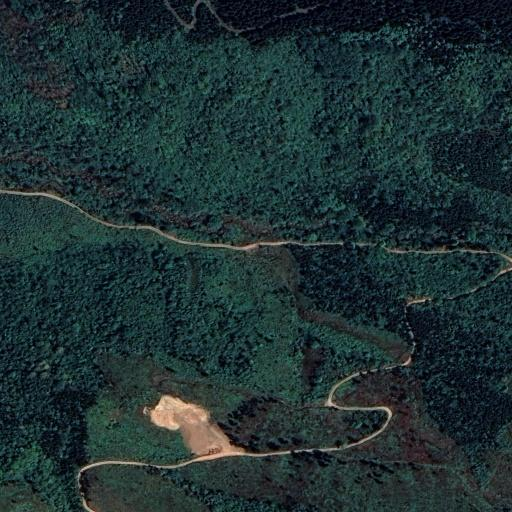landslide: (141, 392, 245, 459)
